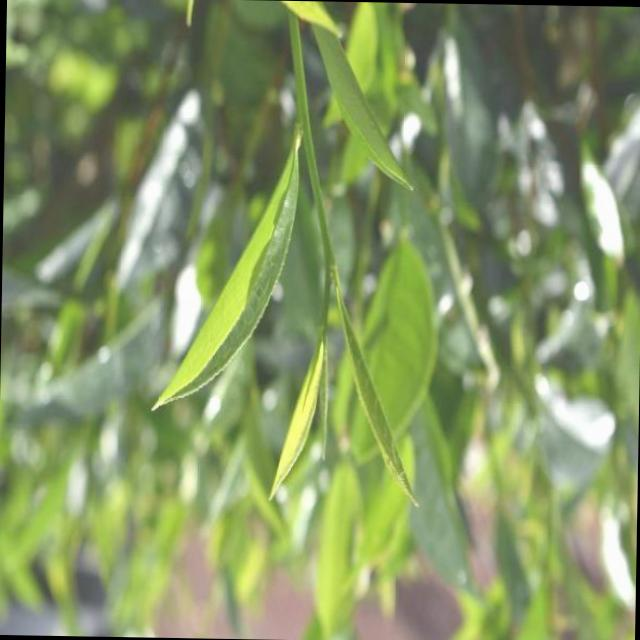Stem: (324, 254, 334, 267)
